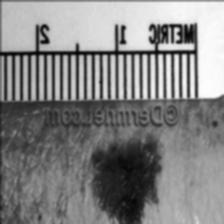Potentially Malignant Skin Tumors: (90, 138, 163, 224)
